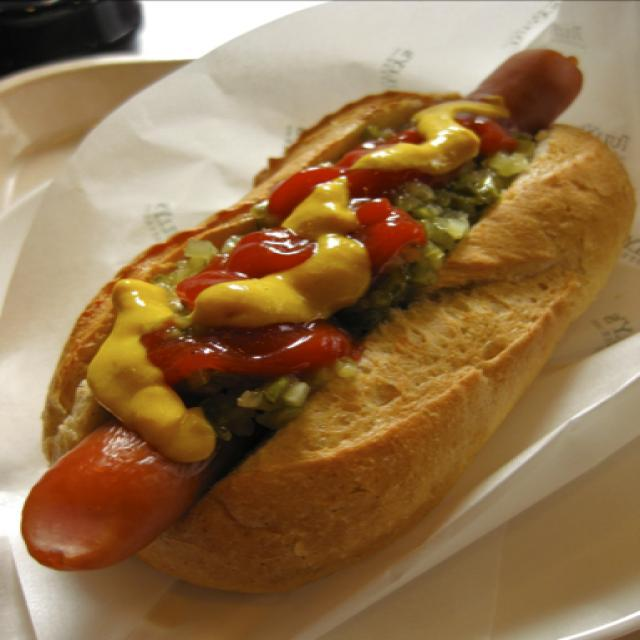Hot Dog: (21, 38, 639, 604)
